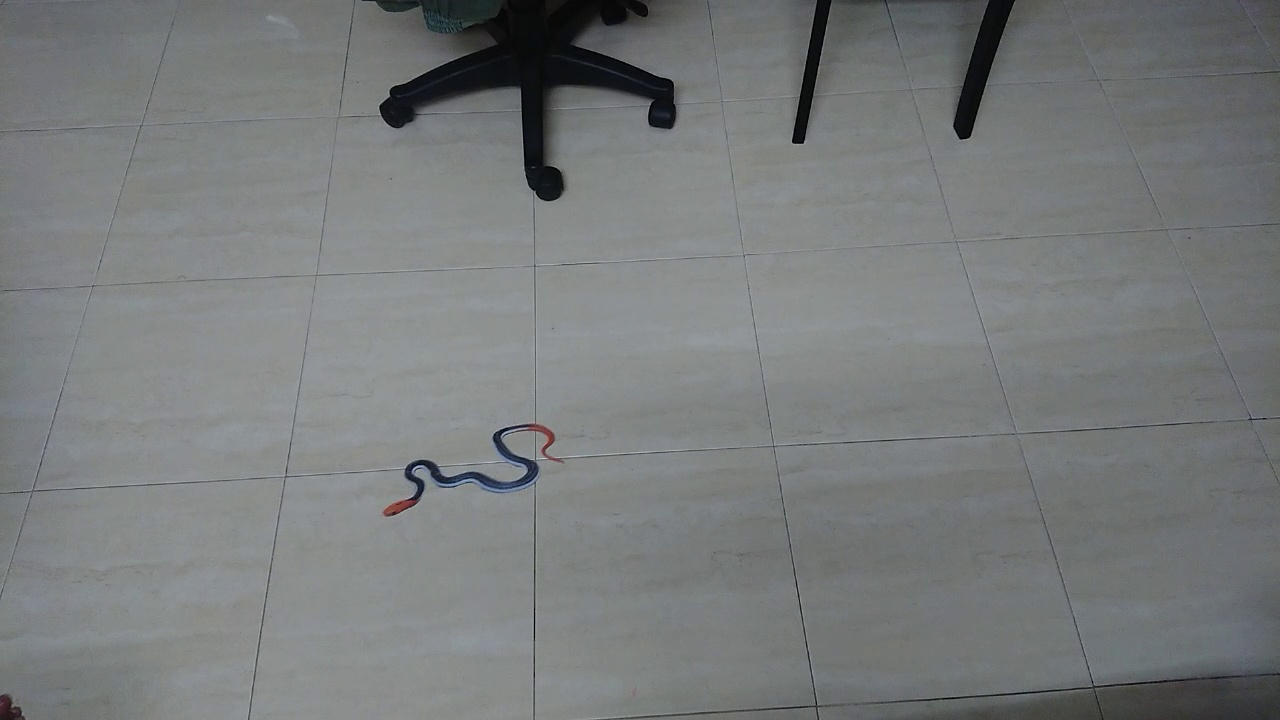snake: (363, 406, 572, 532)
